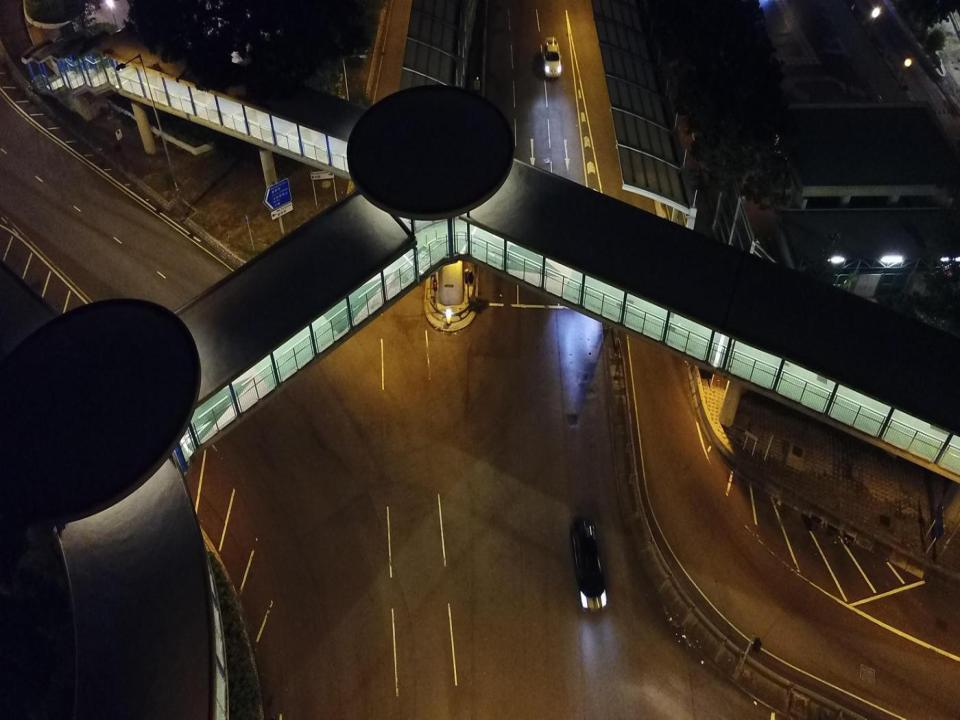car: (570, 516, 607, 612), (543, 35, 562, 78)
